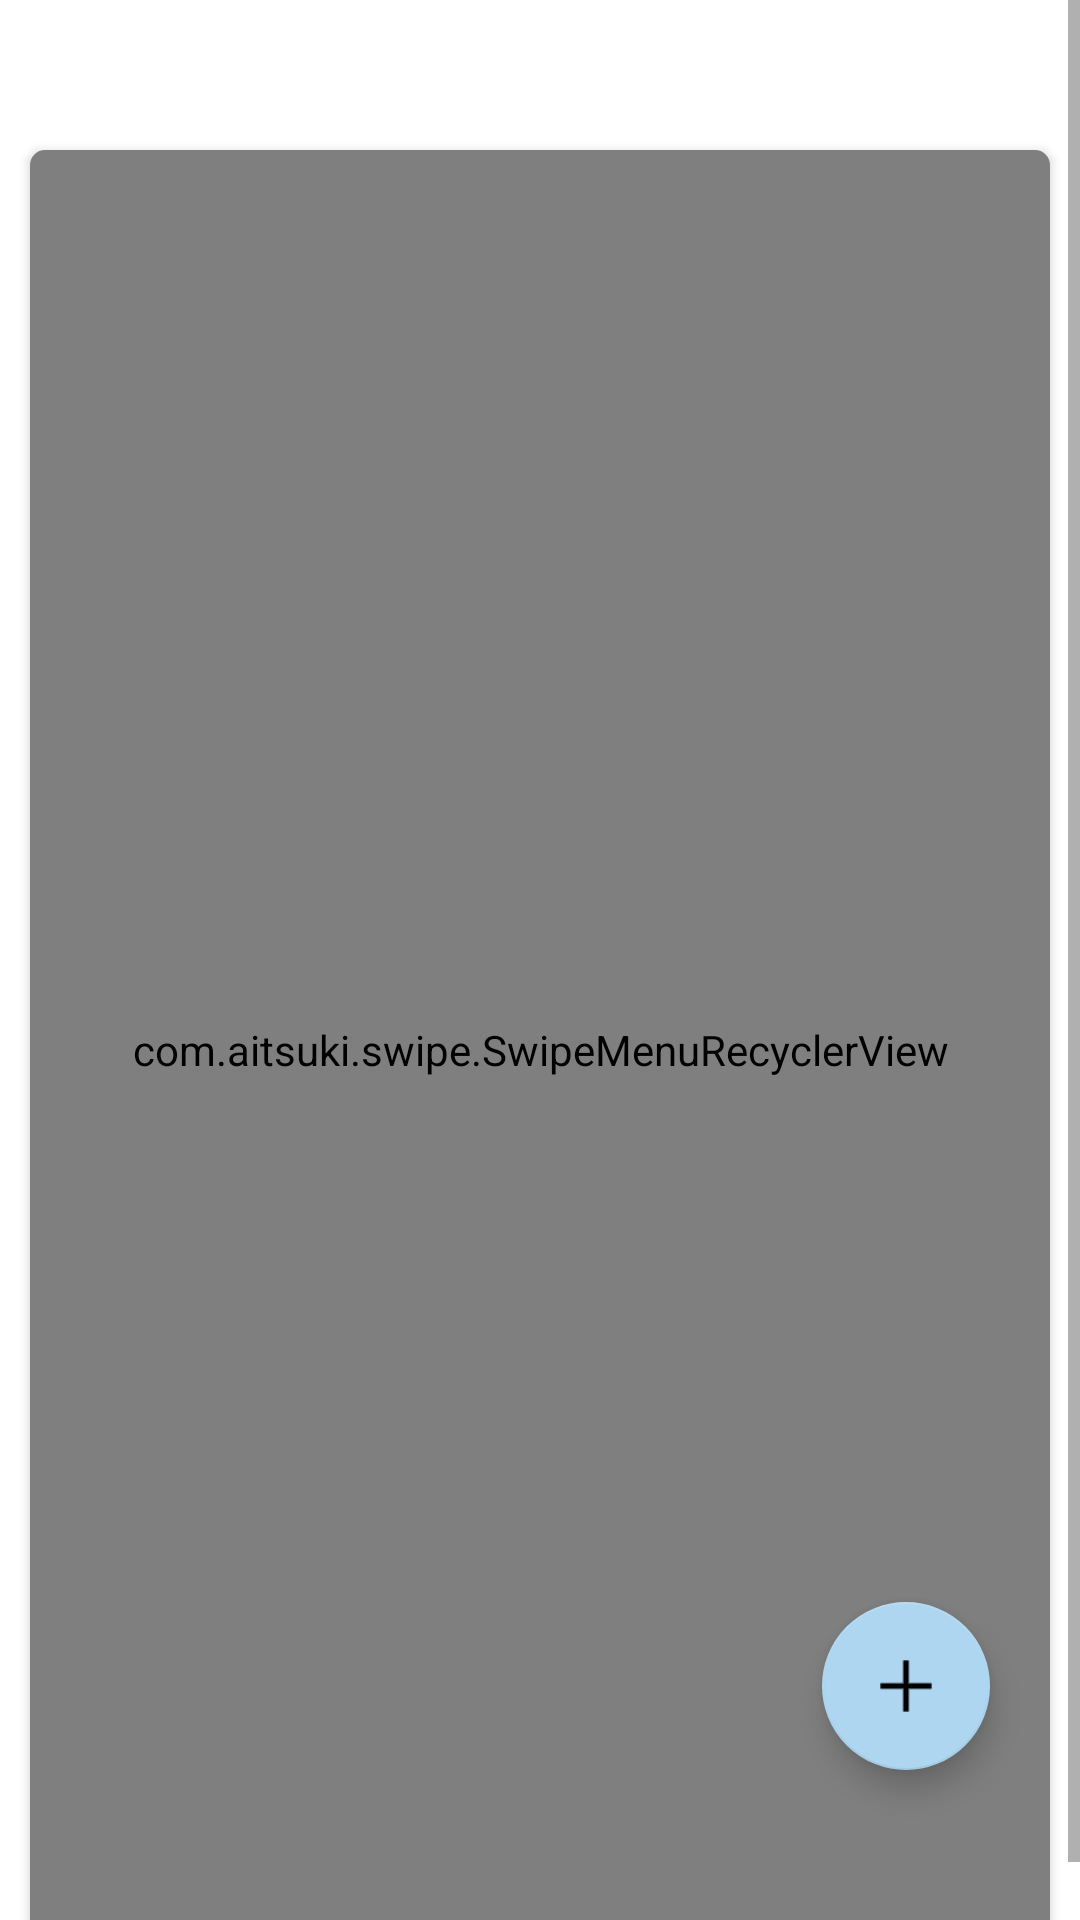

Named icons in this screenshot (1080px x 1920px) and their bounding boxes, (x1, y1, x2, y2):
添加: (822, 1602, 990, 1770)
